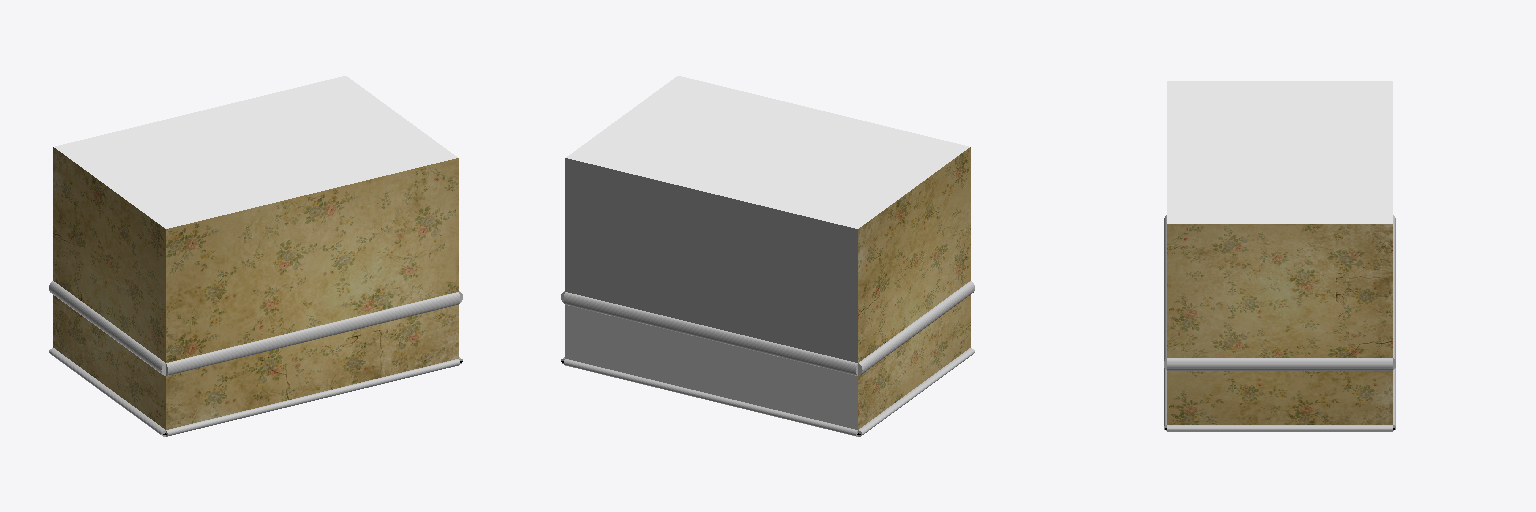
The picture shows the model from 3 angles: view 1: azimuth 30°, elevation 25°; view 2: azimuth 150°, elevation 25°; view 3: azimuth 270°, elevation 25°; orthographic projection.
Parts seen in each view (by area): view 1: Plane.005_Plane.007, Plane.006_Plane.008, Plane.001_Plane.003, Cylinder.004_Cylinder, Cylinder.009_Cylinder, Cylinder.005_Cylinder, Cylinder.010_Cylinder; view 2: Plane.002, Plane.006_Plane.008, Plane.001_Plane.003, Plane, Cylinder.001_Cylinder, Cylinder.007_Cylinder, Cylinder.005_Cylinder, Cylinder.010_Cylinder; view 3: Plane.003_Plane.005, Plane.006_Plane.008, Cylinder.003_Cylinder, Cylinder.008_Cylinder.
Part boxes in pixels (x1,y1,x2,y2): Plane.005_Plane.007: (166,158,458,429); Plane.006_Plane.008: (54,76,457,228); Plane.001_Plane.003: (53,147,165,429); Cylinder.004_Cylinder: (166,292,459,375); Cylinder.009_Cylinder: (166,359,459,436); Cylinder.005_Cylinder: (49,281,165,375); Cylinder.010_Cylinder: (49,348,165,436); Plane.002: (565,158,857,362); Plane.006_Plane.008: (566,76,969,228); Plane.001_Plane.003: (858,147,970,429); Plane: (565,305,857,429); Cylinder.001_Cylinder: (564,292,857,375); Cylinder.007_Cylinder: (564,359,857,436); Cylinder.005_Cylinder: (858,281,974,375); Cylinder.010_Cylinder: (858,348,974,436); Plane.003_Plane.005: (1167,224,1392,424); Plane.006_Plane.008: (1167,81,1392,223); Cylinder.003_Cylinder: (1167,358,1392,370); Cylinder.008_Cylinder: (1167,425,1392,431).
Size of the model in its own units: 24.75 by 16.25 by 16.5.
Materials: 6 (2 with a texture image).